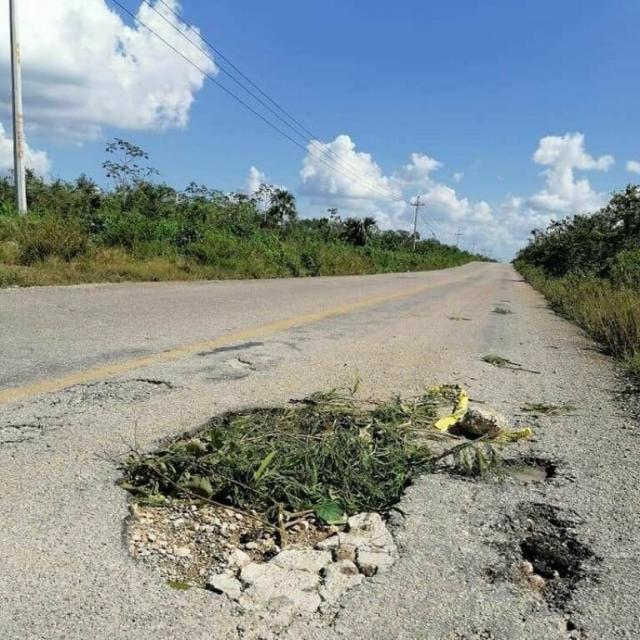Buraco: (113, 403, 417, 636), (477, 496, 610, 618), (486, 452, 564, 488)
